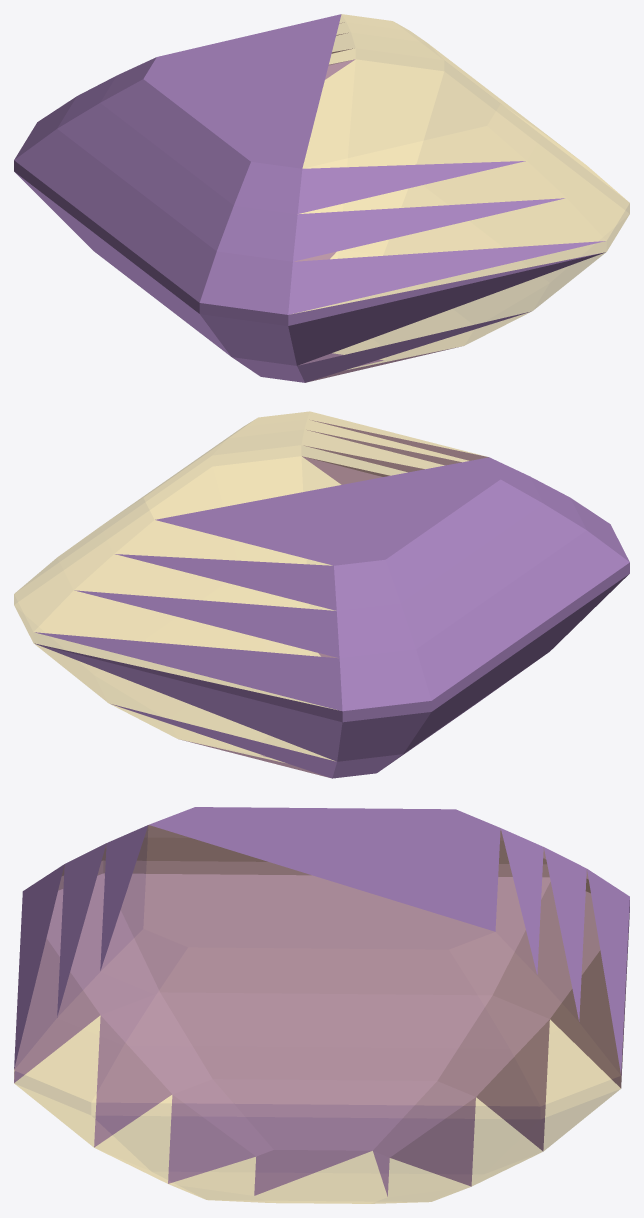
Rendered from stone-ametrine.glb.
3 views of the same model, one above another, from view 1: azimuth 30°, elevation 25°; view 2: azimuth 150°, elevation 25°; view 3: azimuth 270°, elevation 25° (orthographic). The views are drawn at different scales.
Parts seen in each view (by area): view 1: Gemstone Ametrine; view 2: Gemstone Ametrine; view 3: Gemstone Ametrine.
Part boxes in pixels (x1,y1,x2,y2): Gemstone Ametrine: [14, 14, 629, 382]; Gemstone Ametrine: [14, 411, 629, 778]; Gemstone Ametrine: [14, 807, 629, 1203].
Size of the model in its own units: 2.03 by 1.15 by 2.15.
